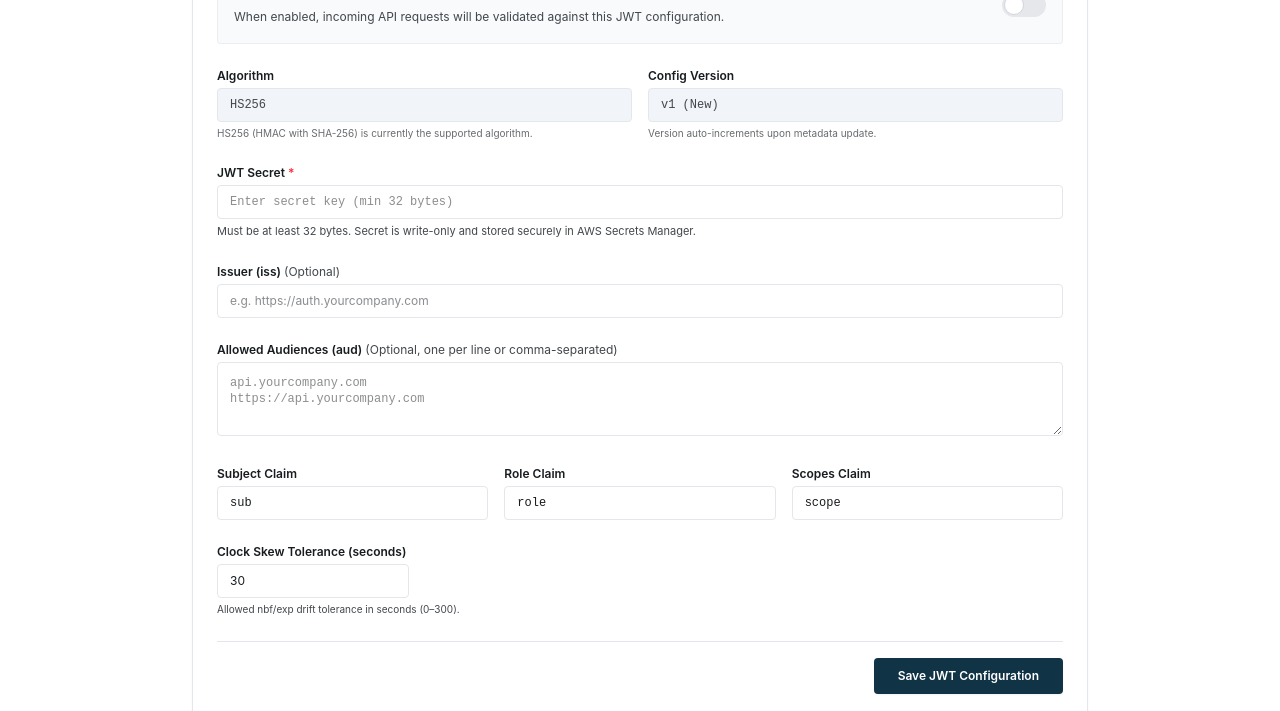
Test: ProjectJwtSecurityPage › 4. First configuration with secret_configured=false requires a secret
This screenshot has width=1280, height=711.
(page scrolled)
Click the button "Save JWT Configuration" at (968, 676), box [874, 658, 1063, 694]
(page scrolled)
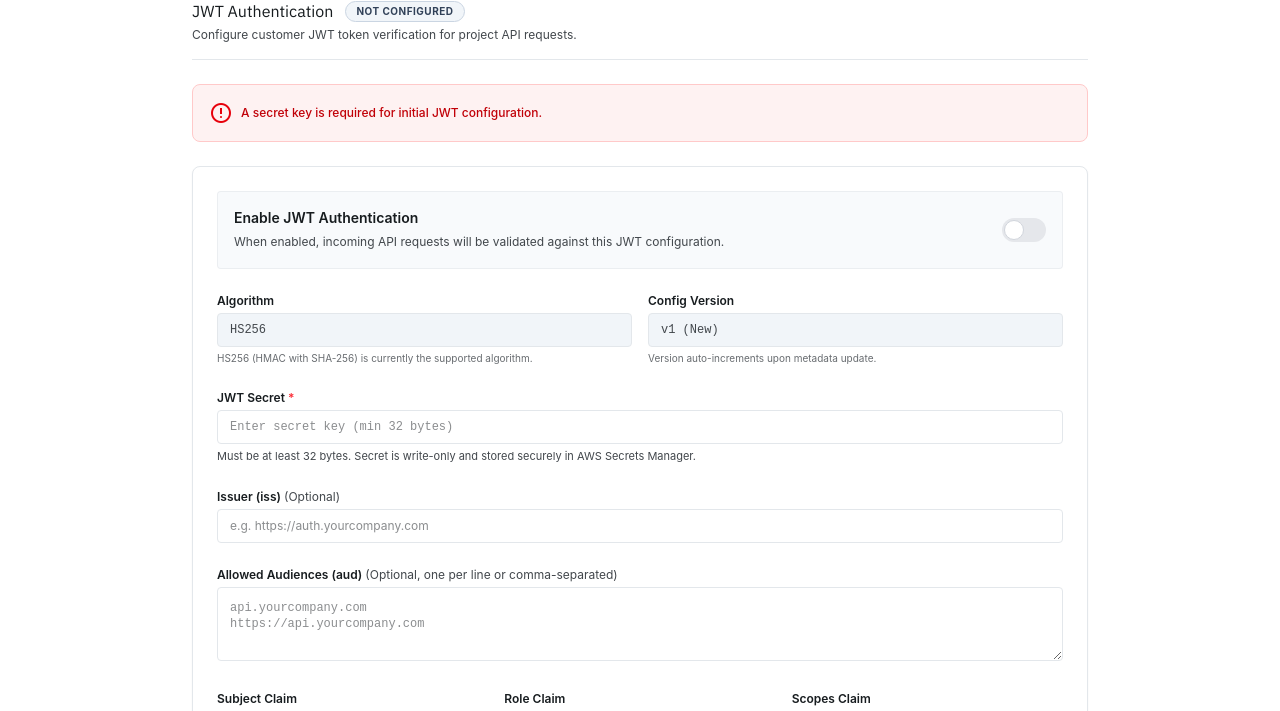
expect the text "A secret key is required for initial JWT configuration." is shown: met, box [192, 84, 1088, 142]
